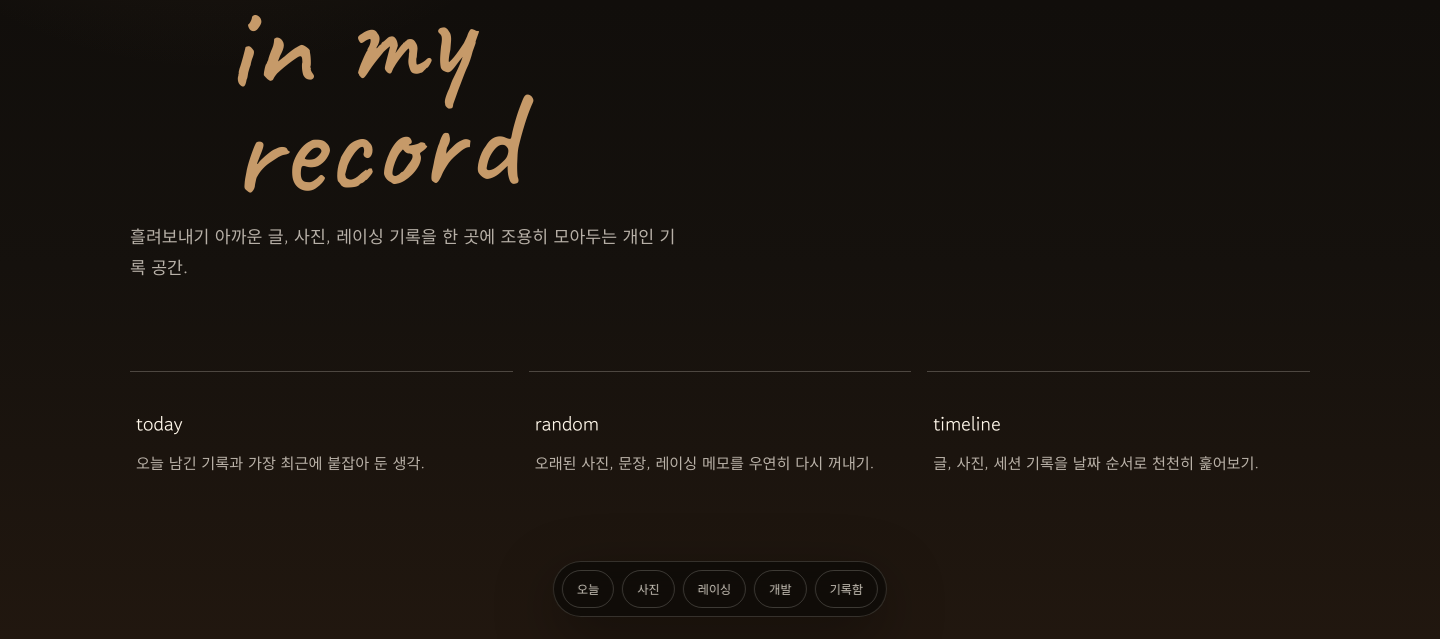
Test case: Karmurs Record homepage › opens a real record from the random discovery prompt
The image size is (1440, 639).
(page scrolled)
Click the button "random 오래된 사진, 문장, 레이싱 메모를 우연히 다시 꺼내기.": (567, 424) [529,371,911,497]
(page scrolled)
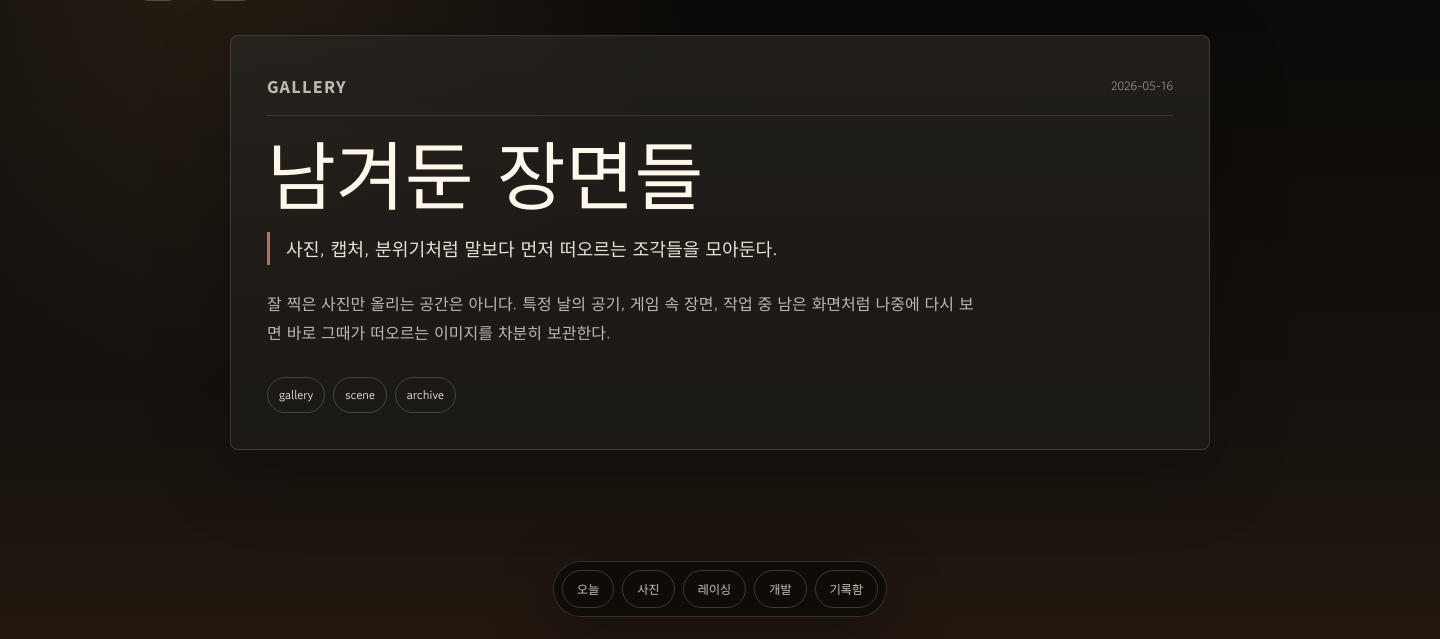
Expected: the heading "남겨둔 장면들" is shown, [267,117,703,226]
Expected: the text "잘 찍은 사진만 올리는 공간은 아니다" is shown, [267,291,974,344]
